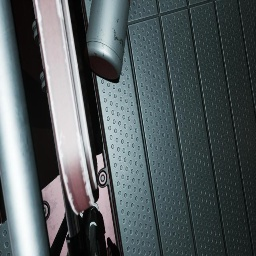NitrogenTank ,: (84, 0, 130, 80)
